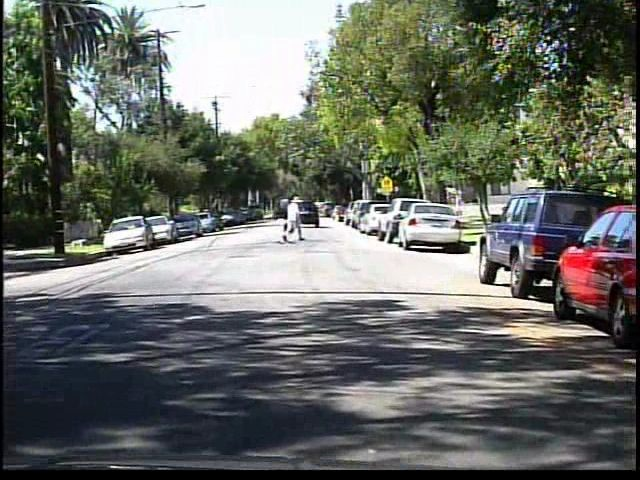person: (279, 195, 308, 245)
